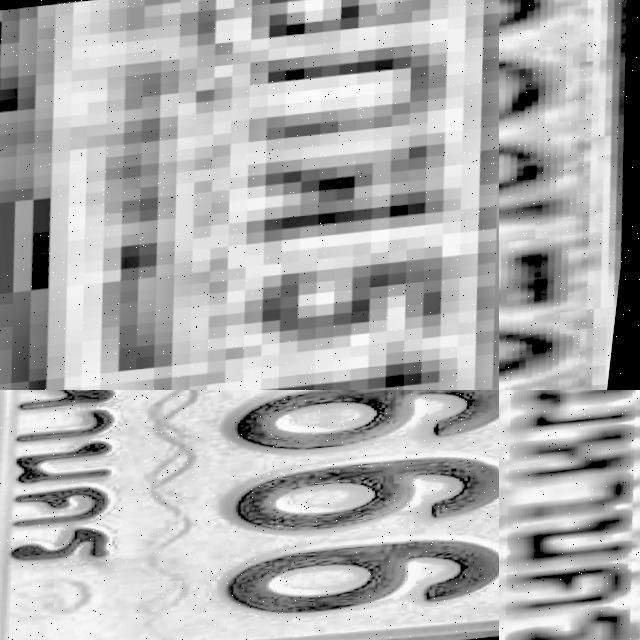license-plate: (0, 0, 499, 390), (0, 390, 499, 640), (499, 0, 640, 390), (499, 390, 640, 640)
